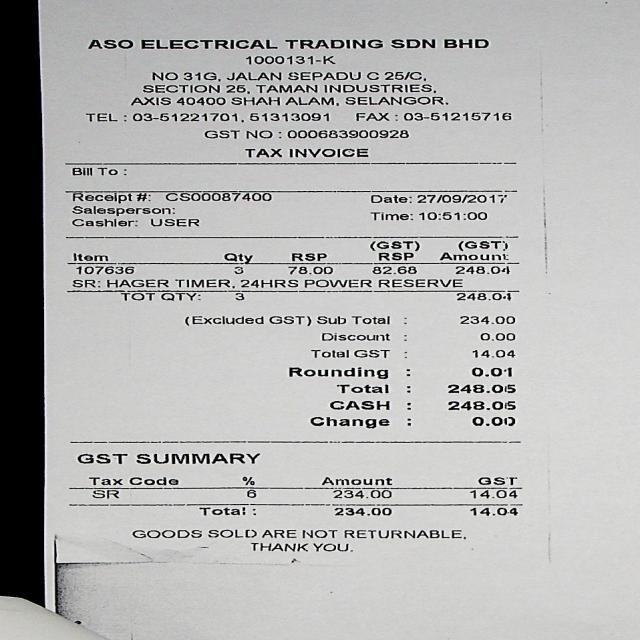text: (140, 39, 277, 49), (135, 453, 259, 464), (288, 366, 387, 379), (344, 529, 464, 539), (164, 190, 270, 201), (70, 205, 174, 216), (132, 112, 242, 122), (286, 129, 407, 138), (323, 84, 435, 93), (284, 38, 381, 48), (309, 416, 388, 428), (343, 96, 447, 105), (72, 191, 150, 203), (402, 112, 510, 120), (244, 55, 334, 64), (288, 148, 367, 158), (184, 315, 262, 325), (417, 194, 509, 202), (321, 476, 394, 486), (248, 112, 327, 121), (141, 84, 218, 93), (376, 279, 462, 287), (447, 400, 514, 410), (369, 239, 419, 252), (367, 70, 425, 81), (130, 529, 200, 538), (469, 504, 521, 516), (418, 211, 486, 220), (446, 384, 514, 393), (458, 238, 508, 250), (329, 400, 388, 410), (286, 72, 359, 80), (173, 278, 230, 288), (334, 506, 391, 516), (438, 252, 509, 260), (76, 453, 126, 464), (255, 84, 316, 93), (303, 279, 371, 287), (284, 96, 337, 106), (240, 279, 298, 288), (332, 489, 390, 498), (249, 542, 307, 551), (71, 218, 136, 226), (105, 279, 168, 287), (456, 291, 512, 300), (459, 315, 514, 324), (207, 528, 256, 538), (454, 265, 508, 274), (334, 384, 388, 393), (321, 333, 388, 340), (75, 266, 133, 274), (86, 39, 132, 49), (201, 506, 247, 516), (229, 96, 279, 105), (174, 96, 224, 105), (128, 476, 177, 485), (443, 38, 487, 48), (225, 72, 280, 80), (471, 416, 514, 426), (469, 489, 516, 498), (470, 366, 510, 376), (390, 39, 434, 48), (372, 265, 416, 274), (289, 252, 328, 262), (150, 218, 198, 226), (478, 476, 516, 486), (355, 112, 396, 121), (368, 212, 409, 221), (130, 96, 170, 105), (244, 148, 280, 158), (288, 266, 332, 274), (471, 349, 514, 357), (350, 315, 388, 324), (368, 194, 410, 202), (183, 72, 219, 81), (203, 130, 239, 139), (160, 291, 196, 300), (268, 315, 304, 324), (312, 543, 352, 551), (301, 529, 336, 538), (223, 253, 251, 264), (87, 476, 121, 485), (261, 529, 295, 538), (310, 349, 347, 357), (377, 252, 412, 260), (72, 252, 107, 260), (119, 292, 154, 300), (318, 315, 346, 325), (479, 332, 514, 340), (354, 349, 388, 357), (84, 113, 116, 121), (71, 279, 99, 287), (90, 490, 118, 498), (96, 166, 118, 176), (225, 84, 249, 93), (245, 130, 271, 138), (151, 72, 176, 80), (70, 166, 92, 175), (241, 476, 253, 485), (246, 488, 255, 498), (233, 266, 242, 274), (234, 292, 243, 300), (123, 114, 125, 121)
